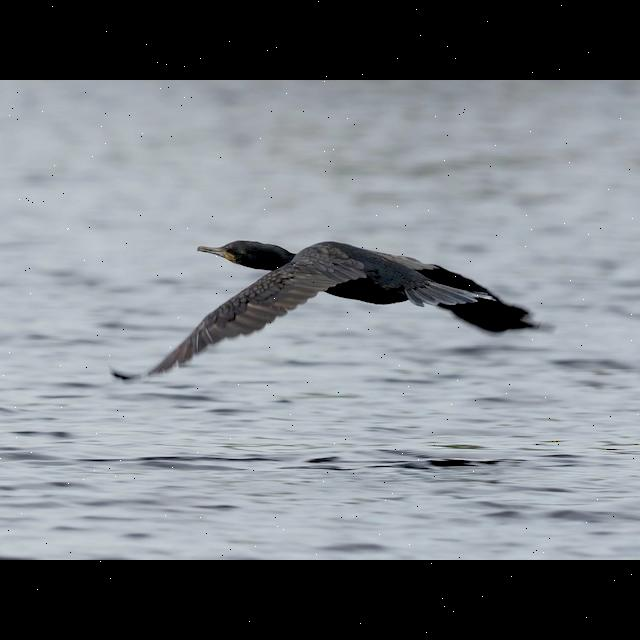cormorant: (125, 235, 538, 388)
